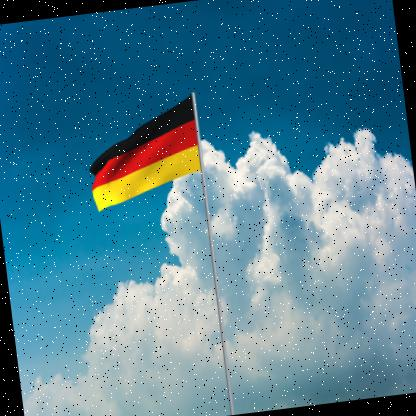de: (83, 96, 206, 215)
